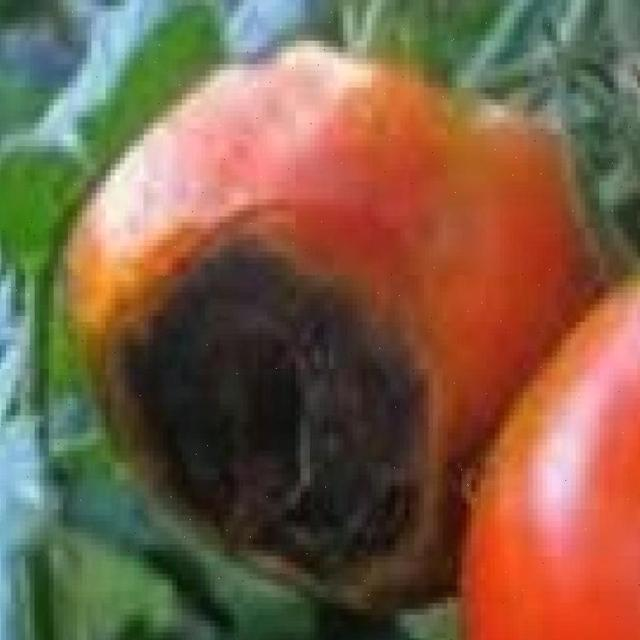Blossom End Rot Fruit: (58, 154, 289, 392)
